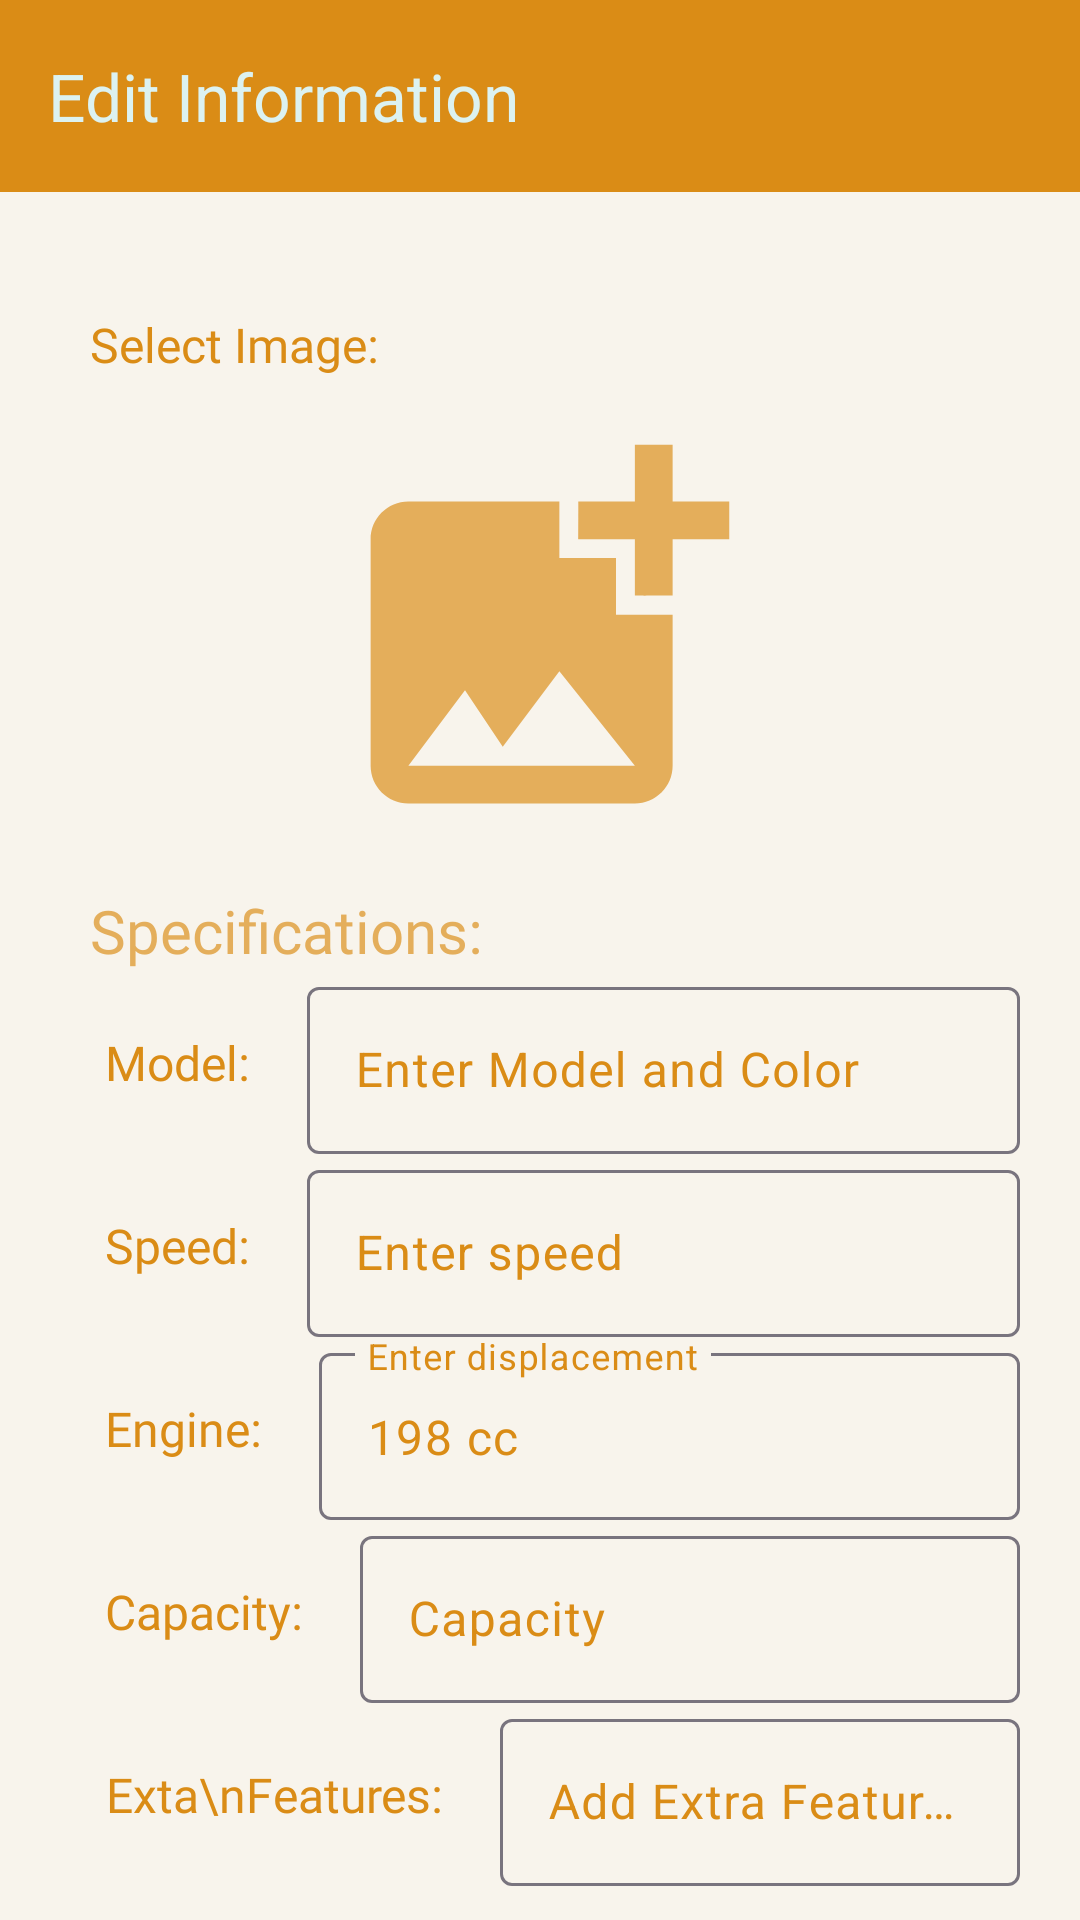

Named icons in this screenshot (1080w x 1920h) and their bounding boxes, (x1, y1, x2, y2):
add photo alternate: (370, 444, 730, 804)
